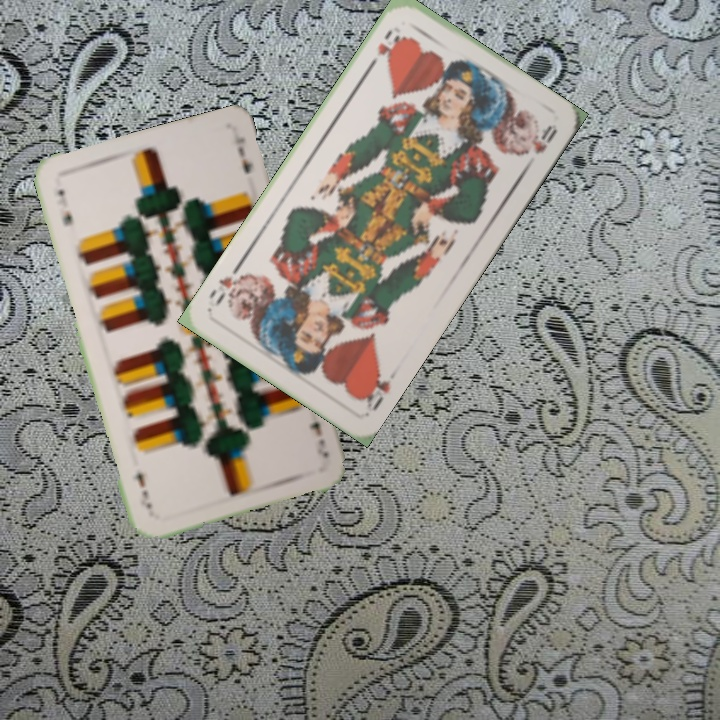E7: (305, 418, 332, 461), (53, 185, 75, 229)
HO: (357, 364, 401, 414), (364, 25, 407, 71)
